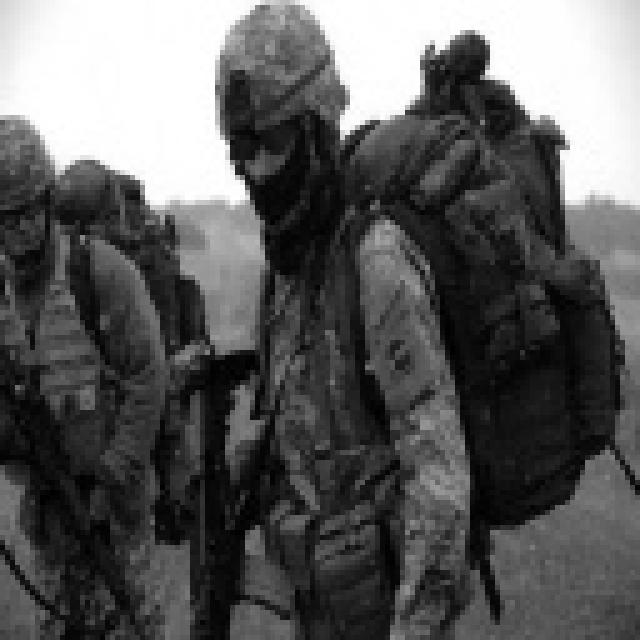Rifle: (155, 315, 305, 640), (0, 330, 155, 640)
